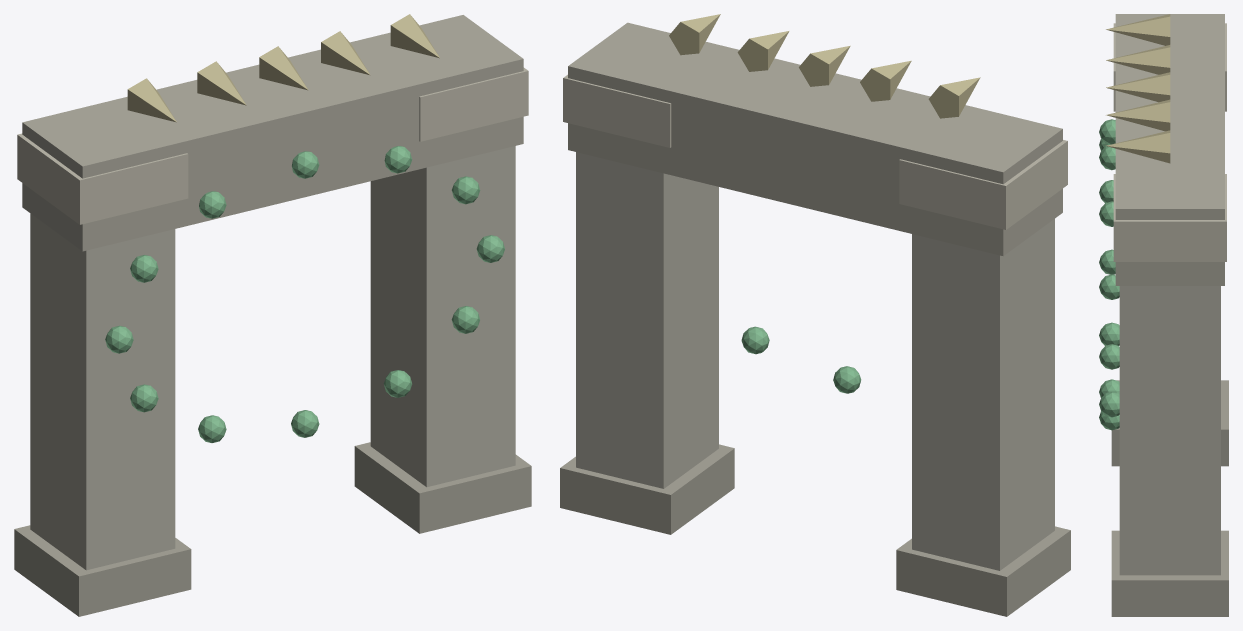
Rendered from ancient_gate.glb.
The picture shows the model from 3 angles, left to right: view 1: azimuth 30°, elevation 25°; view 2: azimuth 150°, elevation 25°; view 3: azimuth 270°, elevation 25°; orthographic projection. The views are drawn at different scales.
Parts seen in each view (by area): view 1: lintel, pillar-22, pillar22, base22, base-22, cap-22, cap22, rune4, rune0, rune2, rune1, rune3; view 2: lintel, pillar-22, pillar22, base22, base-22, cap-22, cap22, rune1, rune2, rune3, rune4, rune0; view 3: pillar22, lintel, base22, cap22, rune4, rune3, rune0, rune2, rune1, base-22, vine11, vine0 (+10 smaller).
Part boxes in pixels (left/top/right/bottom): lintel: left=22, top=15, right=523, bottom=251; pillar-22: left=30, top=213, right=175, bottom=570; pillar22: left=370, top=146, right=515, bottom=487; base22: left=354, top=442, right=531, bottom=533; base-22: left=14, top=525, right=191, bottom=616; cap-22: left=17, top=133, right=188, bottom=224; cap22: left=419, top=67, right=528, bottom=141; rune4: left=390, top=14, right=439, bottom=58; rune0: left=127, top=78, right=176, bottom=122; rune2: left=259, top=46, right=308, bottom=90; rune1: left=197, top=61, right=246, bottom=105; rune3: left=321, top=31, right=370, bottom=75; lintel: left=568, top=22, right=1062, bottom=256; pillar-22: left=912, top=219, right=1054, bottom=570; pillar22: left=576, top=152, right=718, bottom=488; base22: left=560, top=444, right=734, bottom=534; base-22: left=896, top=526, right=1070, bottom=616; cap-22: left=899, top=140, right=1067, bottom=229; cap22: left=563, top=74, right=671, bottom=147; rune1: left=860, top=60, right=911, bottom=101; rune2: left=799, top=45, right=850, bottom=86; rune3: left=737, top=31, right=789, bottom=71; rune4: left=669, top=14, right=720, bottom=55; rune0: left=928, top=77, right=980, bottom=118; pillar22: left=1119, top=286, right=1220, bottom=575; lintel: left=1115, top=14, right=1224, bottom=285; base22: left=1111, top=530, right=1228, bottom=616; cap22: left=1113, top=174, right=1226, bottom=261; rune4: left=1106, top=130, right=1170, bottom=163; rune3: left=1106, top=99, right=1170, bottom=131; rune0: left=1106, top=14, right=1170, bottom=45; rune2: left=1106, top=72, right=1170, bottom=102; rune1: left=1106, top=45, right=1170, bottom=74; base-22: left=1111, top=380, right=1228, bottom=466; vine11: left=1099, top=392, right=1119, bottom=417; vine0: left=1099, top=344, right=1119, bottom=369.
Bounding box in the file's own units: 5.85 × 6.06 × 1.61.
